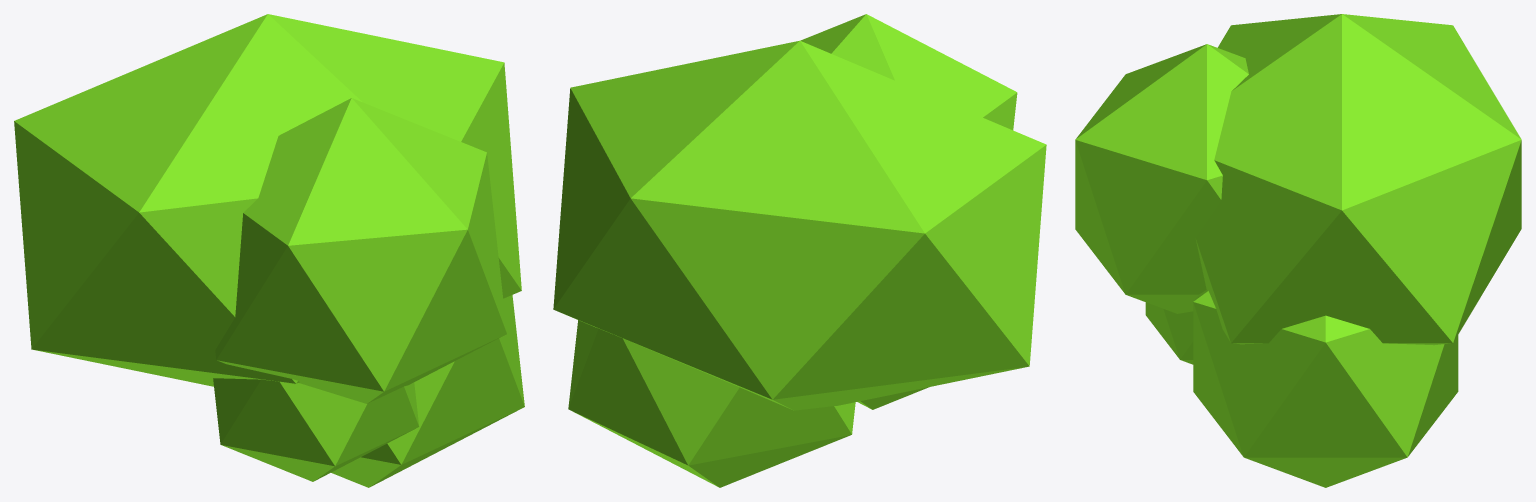
The model's file is bush.glb.
3 renders of one model, left to right at view 1: azimuth 30°, elevation 25°; view 2: azimuth 150°, elevation 25°; view 3: azimuth 270°, elevation 25°, orthographic. The views are drawn at different scales.
Parts seen in each view (by area): view 1: Icosphere.001, Icosphere.002, Icosphere, Icosphere.003; view 2: Icosphere.001, Icosphere.003, Icosphere.002; view 3: Icosphere.001, Icosphere.003, Icosphere.002, Icosphere.
Part boxes in pixels (left/top/right/bottom): Icosphere.001: left=14, top=14, right=521, bottom=386; Icosphere.002: left=215, top=98, right=506, bottom=403; Icosphere: left=213, top=378, right=419, bottom=481; Icosphere.003: left=331, top=295, right=524, bottom=487; Icosphere.001: left=553, top=40, right=1046, bottom=410; Icosphere.003: left=568, top=320, right=855, bottom=487; Icosphere.002: left=800, top=14, right=1017, bottom=130; Icosphere.001: left=1195, top=14, right=1521, bottom=345; Icosphere.003: left=1193, top=290, right=1458, bottom=487; Icosphere.002: left=1075, top=44, right=1248, bottom=313; Icosphere: left=1145, top=302, right=1193, bottom=364.
Size of the model in its own units: 7.37 by 7.29 by 6.79.
